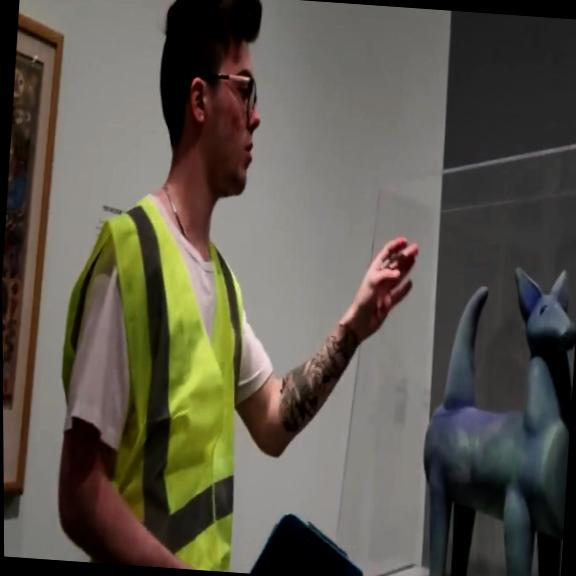safety_vest: (47, 190, 257, 572)
